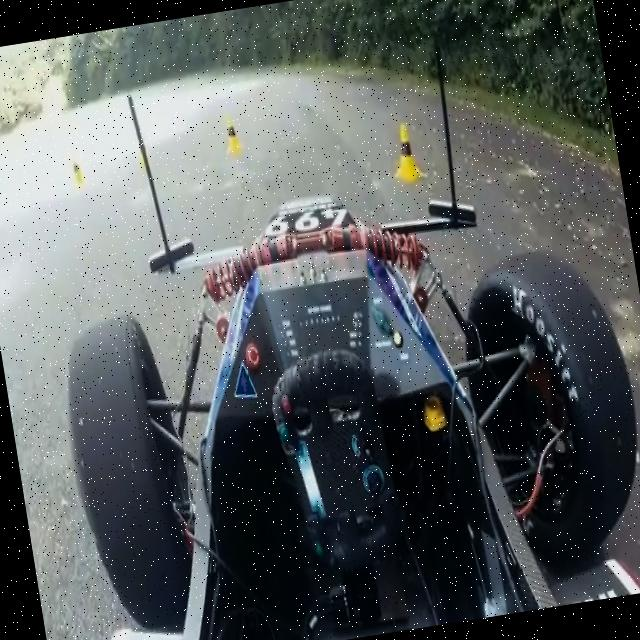yellow_cone: (386, 118, 428, 194), (220, 112, 246, 160)
